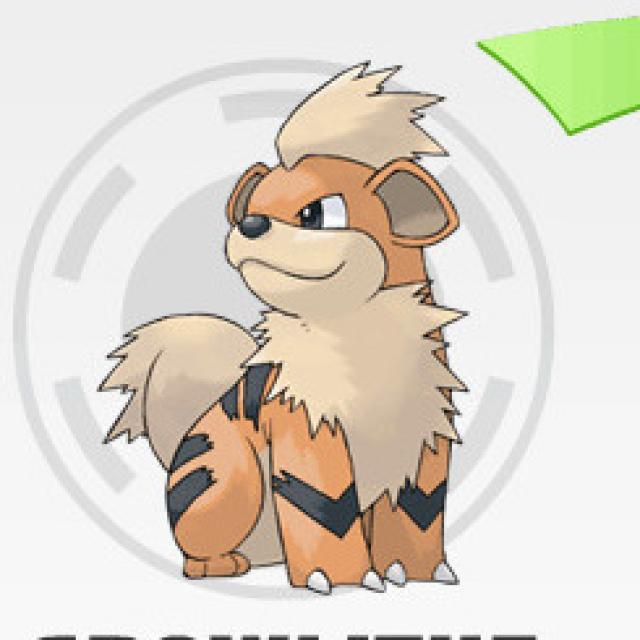Growlithe: (152, 100, 472, 594)
